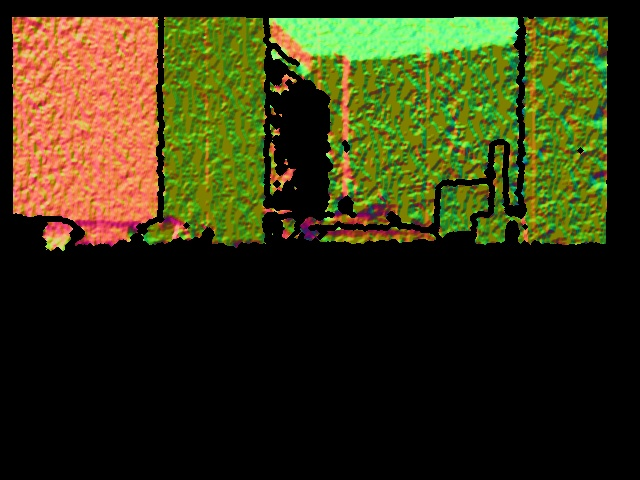station: (471, 141, 520, 244)
